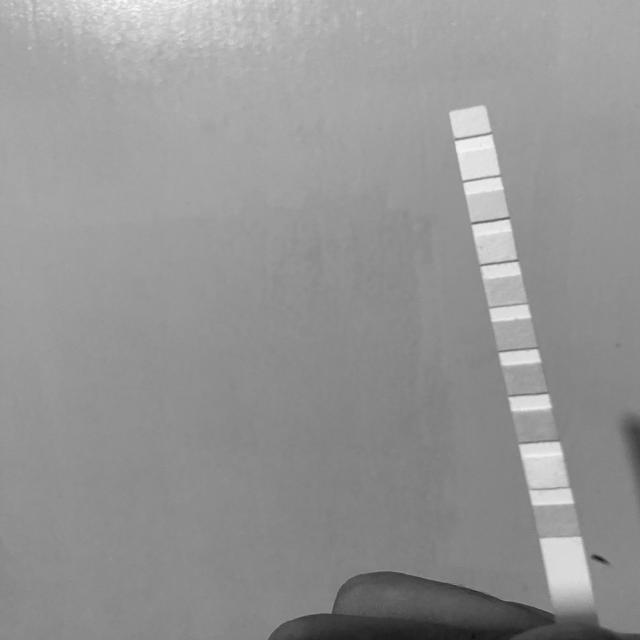Bilirubin: (527, 457, 563, 487)
Blood: (497, 321, 532, 348)
Glucose: (537, 506, 575, 536)
Ketone: (517, 412, 552, 440)
Leukocytes: (453, 111, 485, 133)
Nitrite: (461, 153, 496, 176)
Protein: (479, 236, 512, 260)
SpGravity: (506, 366, 542, 393)
Urobilinogen: (471, 194, 505, 217)
background: (0, 0, 640, 640)
pH: (488, 279, 522, 304)
strip: (448, 106, 598, 611)
